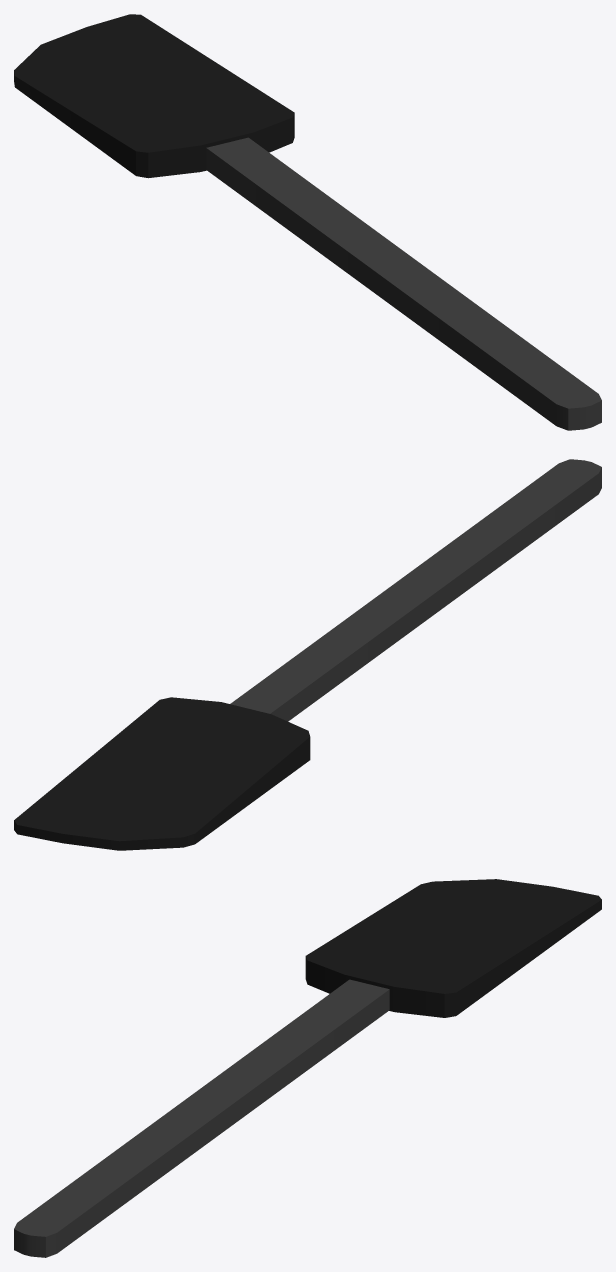
File: Rubber_Spatula_2.FBX
3 renders of one model, top to bottom at view 1: azimuth 30°, elevation 25°; view 2: azimuth 150°, elevation 25°; view 3: azimuth 330°, elevation 25°, orthographic. The views are drawn at different scales.
Parts seen in each view (by area): view 1: Rubber_Spatula; view 2: Rubber_Spatula; view 3: Rubber_Spatula.
Boxes of the visible parts, x1,y1,x2,y2 form: Rubber_Spatula: (14, 14, 601, 430); Rubber_Spatula: (14, 459, 601, 850); Rubber_Spatula: (14, 879, 601, 1257).
Size of the model in its own units: 15 by 2.41 by 86.77.
